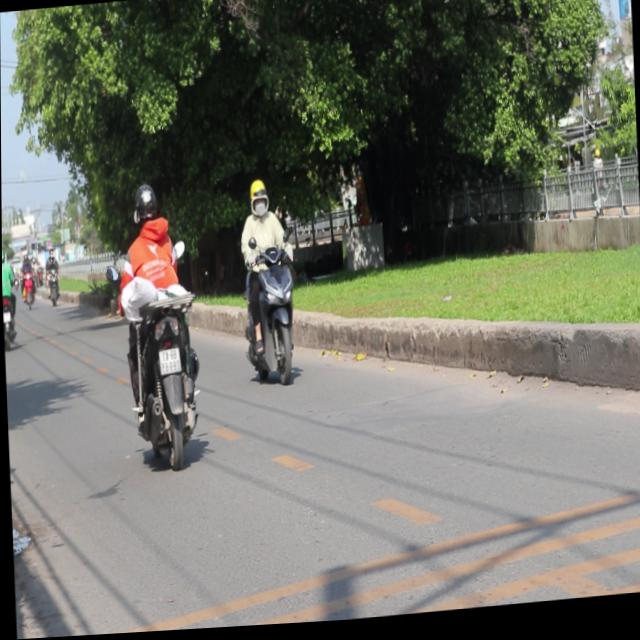helmet: (131, 182, 160, 229), (248, 179, 269, 218)
licenseplate: (112, 178, 207, 473), (235, 176, 301, 391)
nohelmet: (157, 348, 180, 376)
